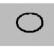no answer: (14, 11, 48, 34)
